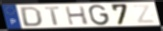7: (110, 3, 130, 26)
D: (20, 6, 43, 27)
G: (88, 4, 111, 27)
H: (63, 5, 90, 26)
T: (43, 6, 61, 26)
Z: (131, 4, 158, 25)
